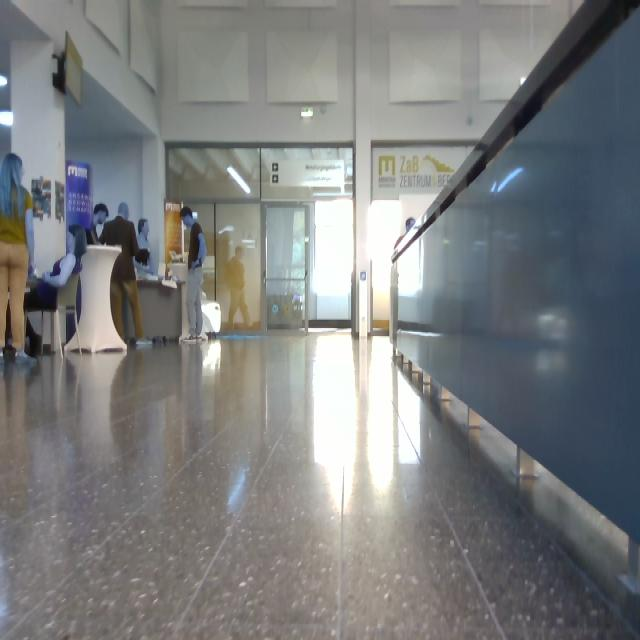chair: (48, 285, 84, 364)
door: (215, 210, 258, 337), (308, 204, 349, 332), (264, 213, 304, 337)
light bulb: (225, 173, 249, 201), (1, 121, 18, 137), (185, 221, 198, 233)
person: (1, 166, 47, 364), (99, 212, 153, 353), (35, 236, 92, 320), (184, 213, 212, 346)
staircase: (386, 1, 640, 630)
table: (71, 253, 130, 361)
tiled floor: (1, 341, 636, 640)
